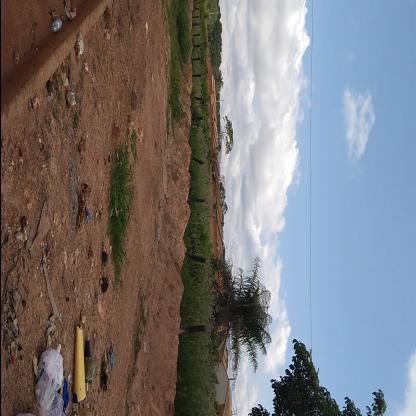lixo: (36, 328, 82, 416)
